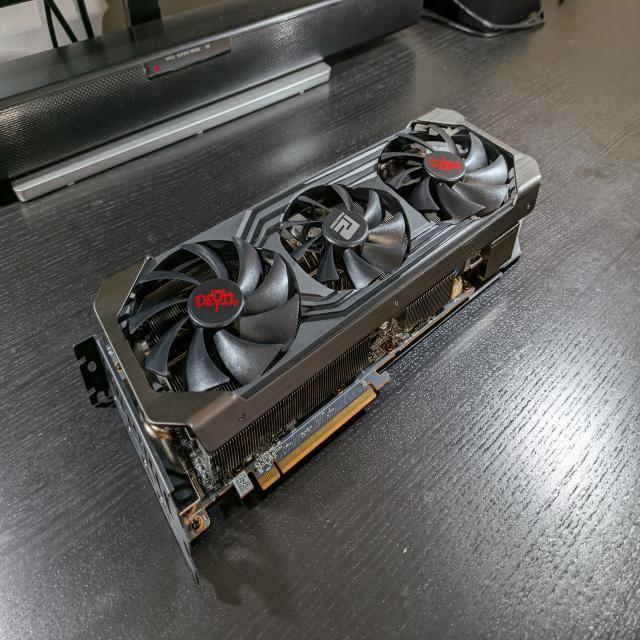GPU: (72, 106, 542, 556)
